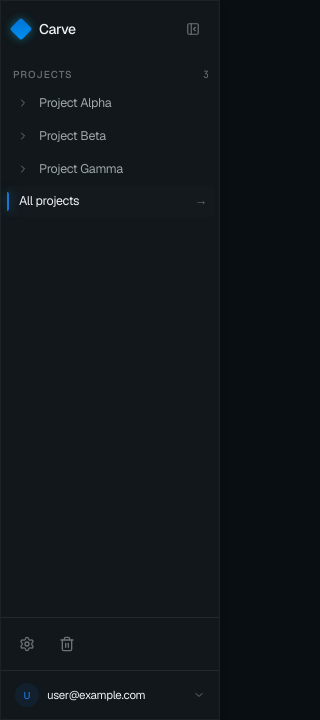
it: LeftNav — project→tasks tree (v3.1 Issue 5) › clicking the chevron a second time collapses the task list
The image size is (320, 720).
Expected: the list item with test id "leftnav-project-A" is shown, [15,94,111,111]
Click the button with test id "leftnav-project-toggle-A" at (23, 103), box [15,95,31,111]
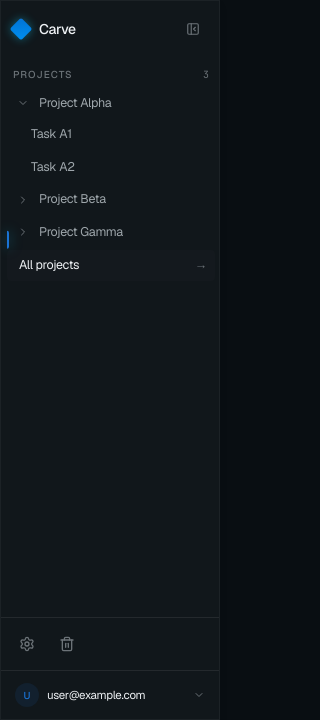
Now the list item with test id "leftnav-task-TA1" is shown, box [31,125,72,142]
Click the button with test id "leftnav-project-toggle-A" at (23, 103), box [15,95,31,111]
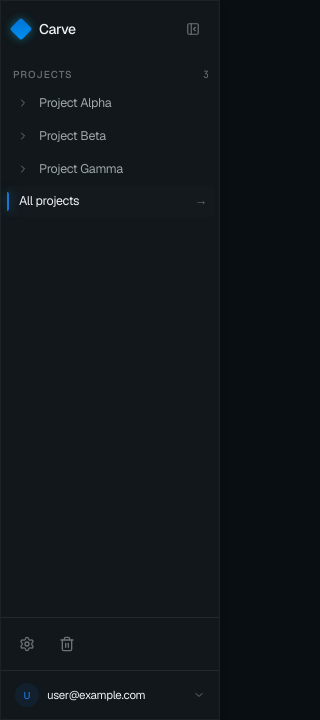
Now the list item with test id "leftnav-task-TA1" is gone
Now the list item with test id "leftnav-task-TA2" is gone
